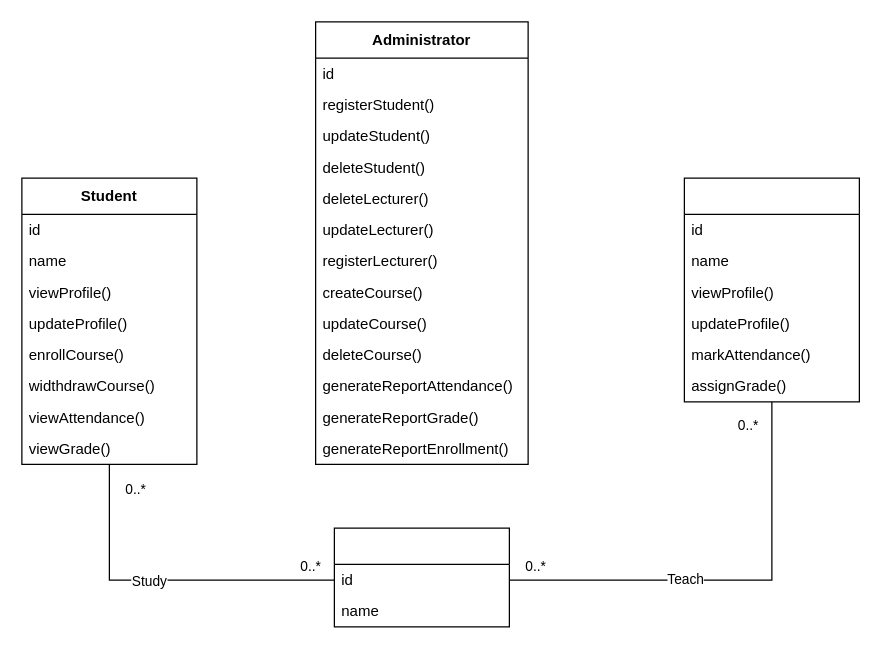
The diagram is 881 pixels wide and 649 high, and some of its shapes have lost their labels. Each missing label, with the box of its shape:
Course: (333, 527, 509, 627)
Lecturer: (683, 177, 859, 402)
